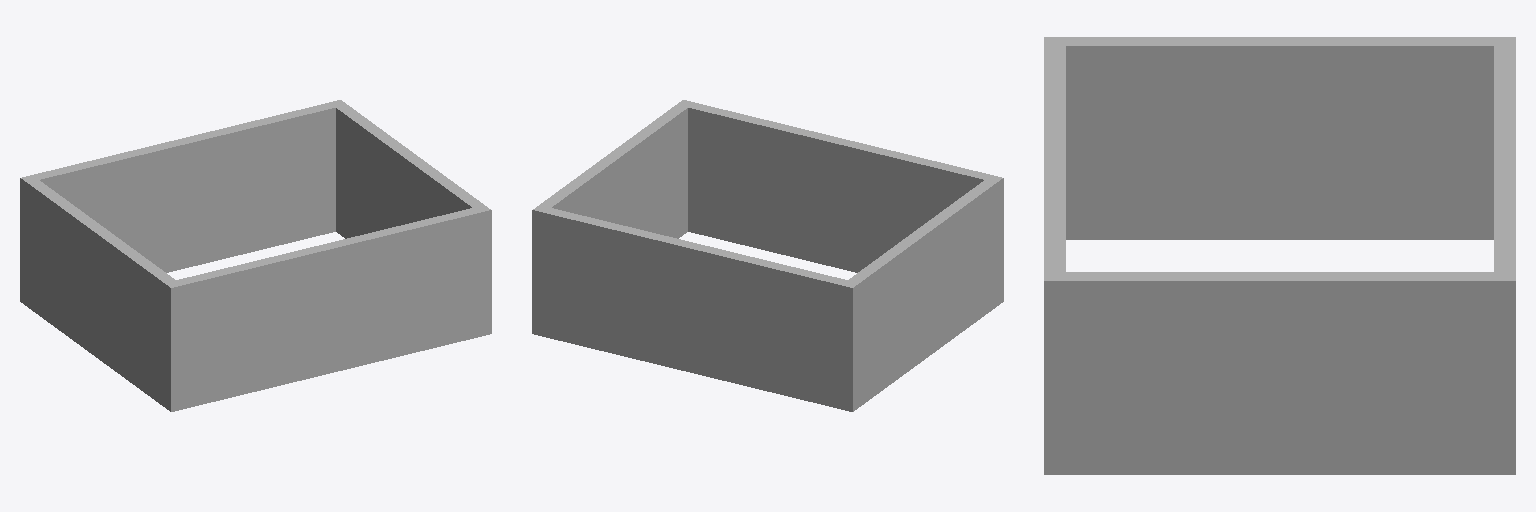
URDF robot description (Room_big):
<?xml version="1.0" encoding="utf-8"?>
<!-- This URDF was automatically created by SolidWorks to URDF Exporter! Originally created by [author] ([email redacted]) 
     Commit Version: 1.6.0-4-g7f85cfe  Build Version: 1.6.7995.38578
     For more information, please see http://wiki.ros.org/sw_urdf_exporter -->
<robot
  name="Room_big">
  <link
    name="wall_s1">
    <inertial>
      <origin
        xyz="-0.1 1 2.1"
        rpy="0 0 0" />
      <mass
        value="1680" />
      <inertia
        ixx="3029.6"
        ixy="-9.40037234760435E-33"
        ixz="1.22864681391851E-14"
        iyy="2475.2"
        iyz="0"
        izz="565.6" />
    </inertial>
    <visual>
      <origin
        xyz="0 0 0"
        rpy="0 0 0" />
      <geometry>
        <mesh
          filename="package://Room_big/meshes/wall_s1.STL" />
      </geometry>
      <material
        name="">
        <color
          rgba="0.752941176470588 0.752941176470588 0.752941176470588 0.5" />
      </material>
    </visual>
    <collision>
      <origin
        xyz="0 0 0"
        rpy="0 0 0" />
      <geometry>
        <mesh
          filename="package://Room_big/meshes/wall_s1.STL" />
      </geometry>
    </collision>
  </link>
  <link
    name="Wall_l2">
    <inertial>
      <origin
        xyz="-0.1 -1 2.4"
        rpy="0 0 0" />
      <mass
        value="2080" />
      <inertia
        ixx="5380.26666666667"
        ixy="-4.74075063233781E-31"
        ixz="-1.12502599828683E-14"
        iyy="4693.86666666667"
        iyz="0"
        izz="700.266666666667" />
    </inertial>
    <visual>
      <origin
        xyz="0 0 0"
        rpy="0 0 0" />
      <geometry>
        <mesh
          filename="package://Room_big/meshes/Wall_l2.STL" />
      </geometry>
      <material
        name="">
        <color
          rgba="0.752941176470588 0.752941176470588 0.752941176470588 0.5" />
      </material>
    </visual>
    <collision>
      <origin
        xyz="0 0 0"
        rpy="0 0 0" />
      <geometry>
        <mesh
          filename="package://Room_big/meshes/Wall_l2.STL" />
      </geometry>
    </collision>
  </link>
  <joint
    name="wall_l2"
    type="fixed">
    <origin
      xyz="0 0 0"
      rpy="-1.5707963267949 0 -1.5707963267949" />
    <parent
      link="wall_s1" />
    <child
      link="Wall_l2" />
    <axis
      xyz="0 0 0" />
  </joint>
  <link
    name="Wall_s3">
    <inertial>
      <origin
        xyz="5.1 1 1.9"
        rpy="0 0 0" />
      <mass
        value="1679.99999999999" />
      <inertia
        ixx="3029.59999999999"
        ixy="-2.21436088129666E-30"
        ixz="1.47955721748378E-14"
        iyy="2475.19999999999"
        iyz="-5.9211894646675E-14"
        izz="565.599999999998" />
    </inertial>
    <visual>
      <origin
        xyz="0 0 0"
        rpy="0 0 0" />
      <geometry>
        <mesh
          filename="package://Room_big/meshes/Wall_s3.STL" />
      </geometry>
      <material
        name="">
        <color
          rgba="0.752941176470588 0.752941176470588 0.752941176470588 0.5" />
      </material>
    </visual>
    <collision>
      <origin
        xyz="0 0 0"
        rpy="0 0 0" />
      <geometry>
        <mesh
          filename="package://Room_big/meshes/Wall_s3.STL" />
      </geometry>
    </collision>
  </link>
  <joint
    name="wall_s3"
    type="fixed">
    <origin
      xyz="0 0 0"
      rpy="1.5707963267949 0 0" />
    <parent
      link="wall_s1" />
    <child
      link="Wall_s3" />
    <axis
      xyz="0 0 0" />
  </joint>
  <link
    name="Wall_l4">
    <inertial>
      <origin
        xyz="4.1 -1 2.6"
        rpy="0 0 0" />
      <mass
        value="2080" />
      <inertia
        ixx="5380.26666666666"
        ixy="-1.48029736616687E-15"
        ixz="-2.51650552248367E-14"
        iyy="4693.86666666666"
        iyz="0"
        izz="700.266666666666" />
    </inertial>
    <visual>
      <origin
        xyz="0 0 0"
        rpy="0 0 0" />
      <geometry>
        <mesh
          filename="package://Room_big/meshes/Wall_l4.STL" />
      </geometry>
      <material
        name="">
        <color
          rgba="0.752941176470588 0.752941176470588 0.752941176470588 0.5" />
      </material>
    </visual>
    <collision>
      <origin
        xyz="0 0 0"
        rpy="0 0 0" />
      <geometry>
        <mesh
          filename="package://Room_big/meshes/Wall_l4.STL" />
      </geometry>
    </collision>
  </link>
  <joint
    name="wall_l4"
    type="fixed">
    <origin
      xyz="0 0 0"
      rpy="-1.5707963267949 0 -1.5707963267949" />
    <parent
      link="wall_s1" />
    <child
      link="Wall_l4" />
    <axis
      xyz="0 0 0" />
  </joint>
</robot>

--- Facts derived from the render (not from the file) ---
3 views of the same robot in one strip: view 1: azimuth 30°, elevation 25°; view 2: azimuth 150°, elevation 25°; view 3: azimuth 270°, elevation 25° (orthographic).
Model Room_big with 4 links and 3 joints (3 fixed), rooted at wall_s1, posed every joint at zero.
Visible links, largest first — view 1: Wall_l4, Wall_l2, wall_s1, Wall_s3; view 2: Wall_l2, Wall_l4, wall_s1, Wall_s3; view 3: Wall_s3, wall_s1, Wall_l4, Wall_l2.
Link boxes in pixels (<box>): Wall_l4: <box>177,205,491,408</box>; Wall_l2: <box>20,103,335,305</box>; wall_s1: <box>27,180,182,411</box>; Wall_s3: <box>329,100,483,238</box>; Wall_l2: <box>544,208,859,411</box>; Wall_l4: <box>677,100,990,272</box>; wall_s1: <box>849,175,1003,406</box>; Wall_s3: <box>532,105,687,336</box>; Wall_s3: <box>1066,272,1515,474</box>; wall_s1: <box>1044,37,1493,239</box>; Wall_l4: <box>1044,46,1065,474</box>; Wall_l2: <box>1494,37,1515,271</box>.
Bounding box of the posed robot: 5.4 × 4.4 × 2 m (x, y, z).
4 mesh visuals loaded from 4 distinct referenced files (4 binary STL).